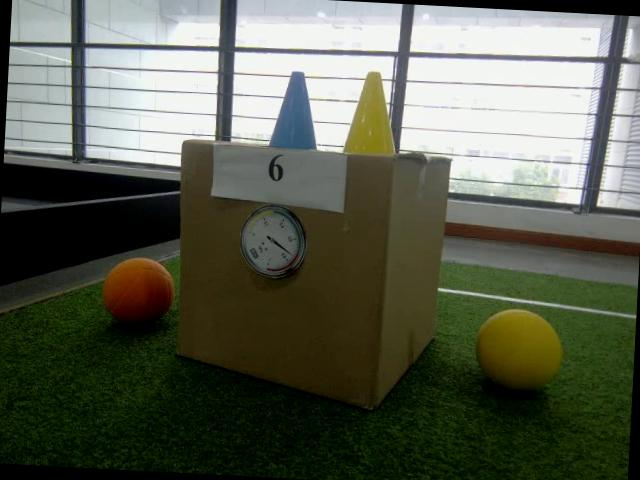6: (266, 151, 288, 183)
Dashboard: (238, 203, 308, 281)
blue_barrel: (258, 68, 322, 153)
orange_ball: (102, 256, 175, 331)
ssi: (247, 245, 260, 261)
yellow_ball: (472, 306, 563, 393)
yellow_barrel: (339, 67, 405, 160)
